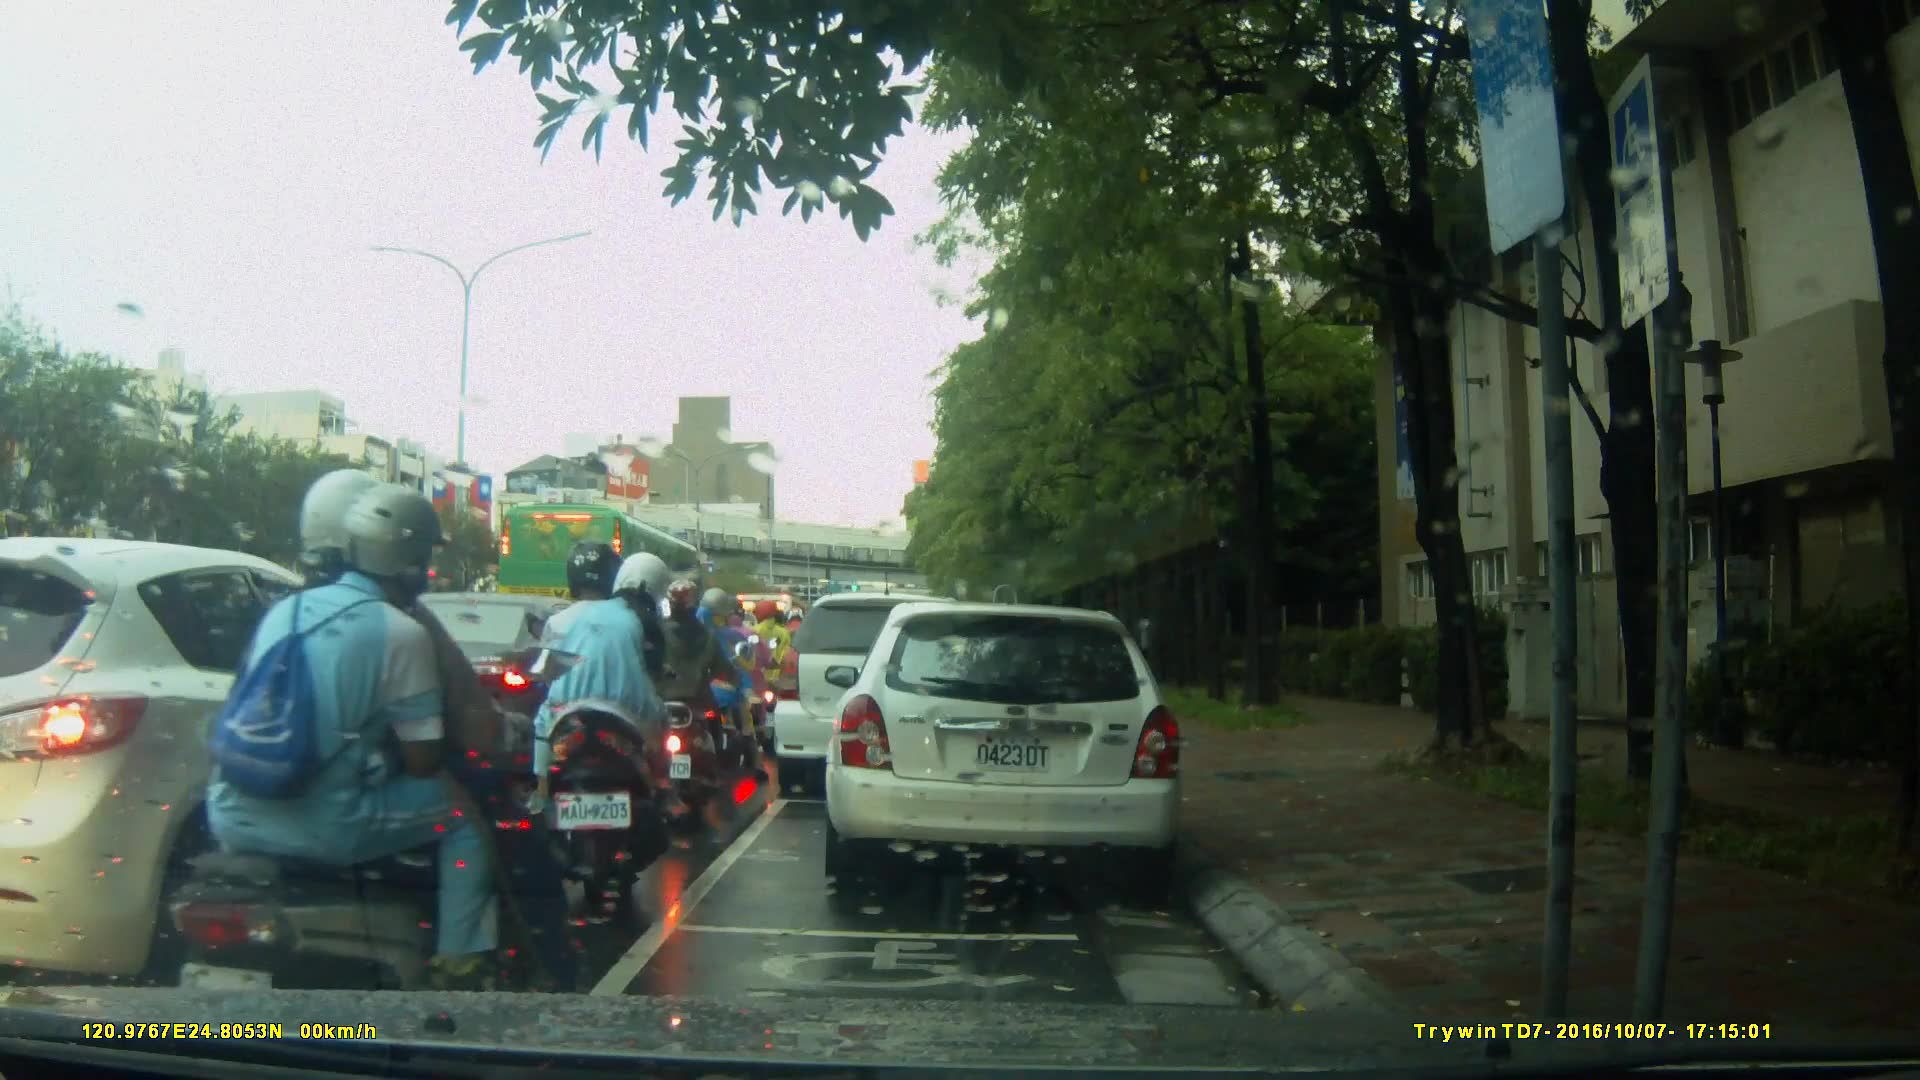rider: (165, 469, 593, 1065), (533, 541, 702, 911), (637, 577, 729, 817), (680, 589, 763, 780), (702, 598, 774, 764), (749, 598, 797, 737)
vehicle: (3, 536, 462, 987), (831, 592, 1196, 897), (312, 589, 629, 776), (772, 590, 999, 803), (495, 500, 711, 636)
